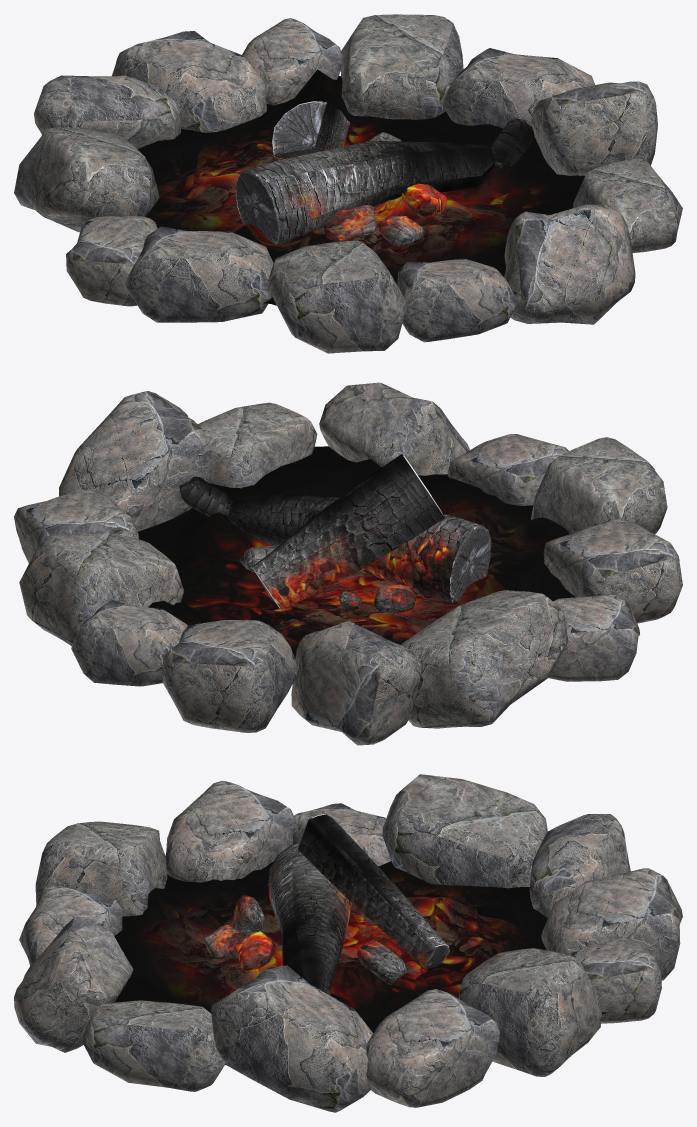
The model's file is camp_fire.glb.
The picture shows the model from 3 angles, top to bottom: view 1: azimuth 30°, elevation 25°; view 2: azimuth 150°, elevation 25°; view 3: azimuth 270°, elevation 25°; orthographic projection. The views are drawn at different scales.
Parts seen in each view (by area): view 1: Object_4, Object_5, Object_6, Object_7; view 2: Object_4, Object_5, Object_6, Object_7; view 3: Object_4, Object_5, Object_6.
Boxes of the visible parts, x1,y1,x2,y2 form: Object_4: (14,14,682,353); Object_5: (137,69,584,305); Object_6: (244,101,533,246); Object_7: (235,102,326,244); Object_4: (14,382,682,745); Object_5: (138,446,575,658); Object_6: (179,454,482,612); Object_7: (255,525,491,607); Object_4: (14,774,682,1112); Object_5: (114,860,607,1065); Object_6: (204,814,448,995).
Size of the model in its own units: 6.34 by 1.75 by 6.4.
6 materials, 4 textured.
